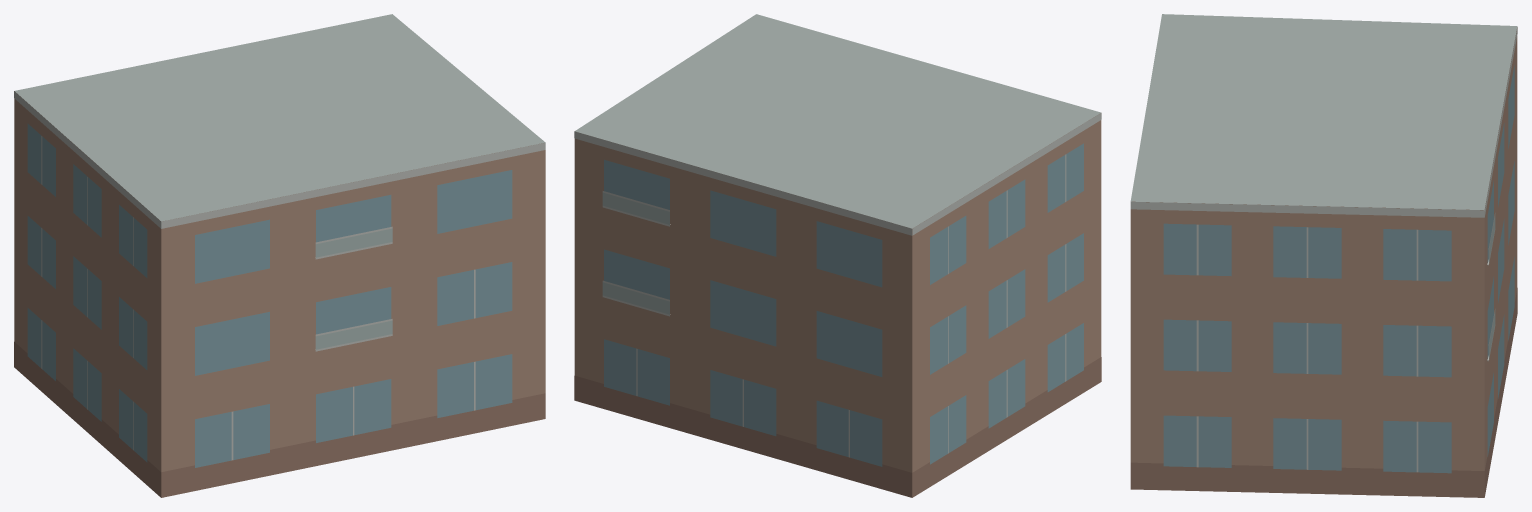
Rendered from survey-upis-32735200.glb.
The picture shows the model from 3 angles, left to right: view 1: azimuth 30°, elevation 25°; view 2: azimuth 150°, elevation 25°; view 3: azimuth 270°, elevation 25°; orthographic projection. The views are drawn at different scales.
Parts seen in each view (by area): view 1: survey-upis-32735200.tmp; view 2: survey-upis-32735200.tmp; view 3: survey-upis-32735200.tmp.
Boxes of the visible parts, box(x1,y1,x2,y2) form: survey-upis-32735200.tmp: box(14, 14, 545, 497); survey-upis-32735200.tmp: box(574, 14, 1101, 497); survey-upis-32735200.tmp: box(1130, 14, 1517, 497).
Size of the model in its own units: 13.39 by 9.15 by 11.16.
